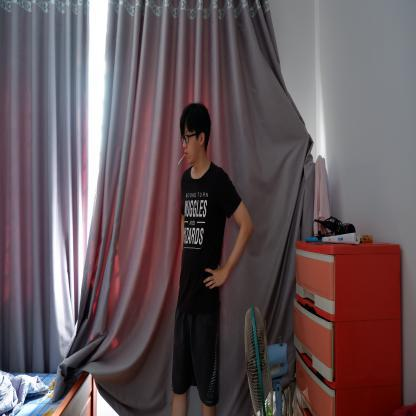cigarette: (178, 154, 186, 166)
person: (170, 100, 252, 415)
